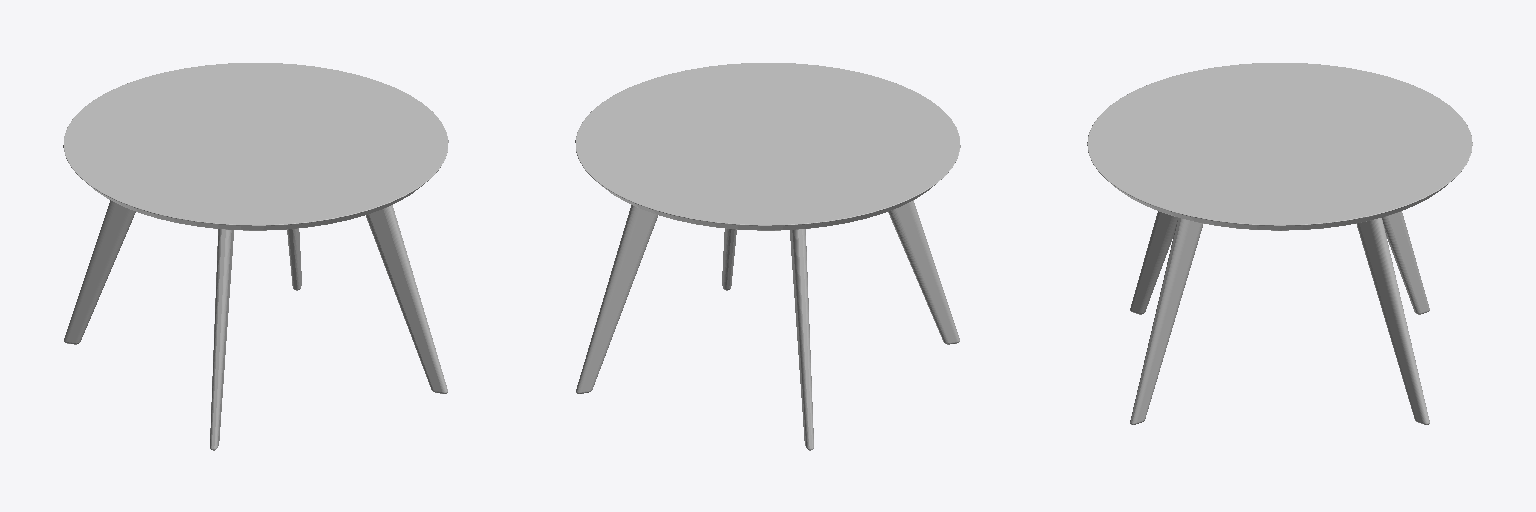
Rendered from table.obj.
3 views of the same model, side by side, from view 1: azimuth 30°, elevation 25°; view 2: azimuth 150°, elevation 25°; view 3: azimuth 270°, elevation 25° (orthographic).
Visible parts, largest first — view 1: table_Mesh; view 2: table_Mesh; view 3: table_Mesh.
Part boxes in pixels (left/top/right/bottom): table_Mesh: left=63, top=63, right=448, bottom=450; table_Mesh: left=575, top=63, right=960, bottom=450; table_Mesh: left=1087, top=63, right=1472, bottom=424.
Bounding box in the file's own units: 1.39 × 0.8927 × 1.39.